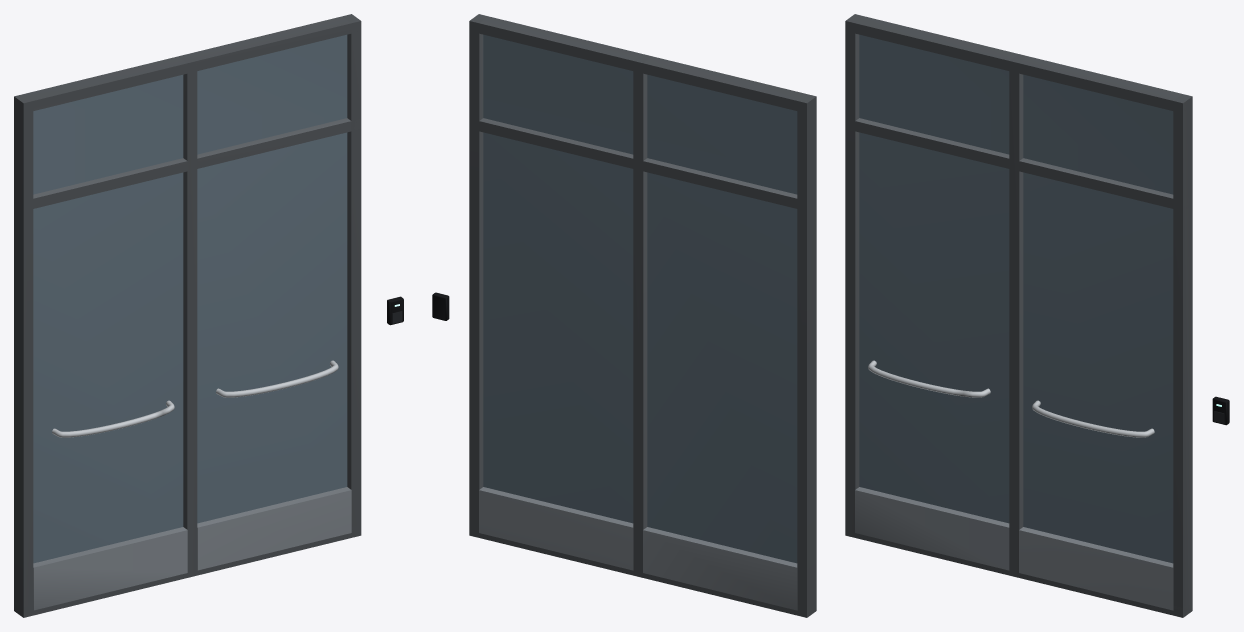
The model's file is door.glb.
3 views of the same model, side by side, from view 1: azimuth 30°, elevation 25°; view 2: azimuth 150°, elevation 25°; view 3: azimuth 330°, elevation 25° (orthographic).
Visible parts, largest first — view 1: Vetri, Porta; view 2: Vetri, Porta; view 3: Vetri, Porta.
Part boxes in pixels (x1,y1,x2,y2): Vetri: [33, 34, 347, 563]; Porta: [14, 14, 403, 617]; Vetri: [483, 34, 797, 563]; Porta: [432, 14, 816, 617]; Vetri: [859, 34, 1173, 563]; Porta: [845, 14, 1229, 617].
Bounding box in the file's own units: 2.32 × 3 × 0.2421.
